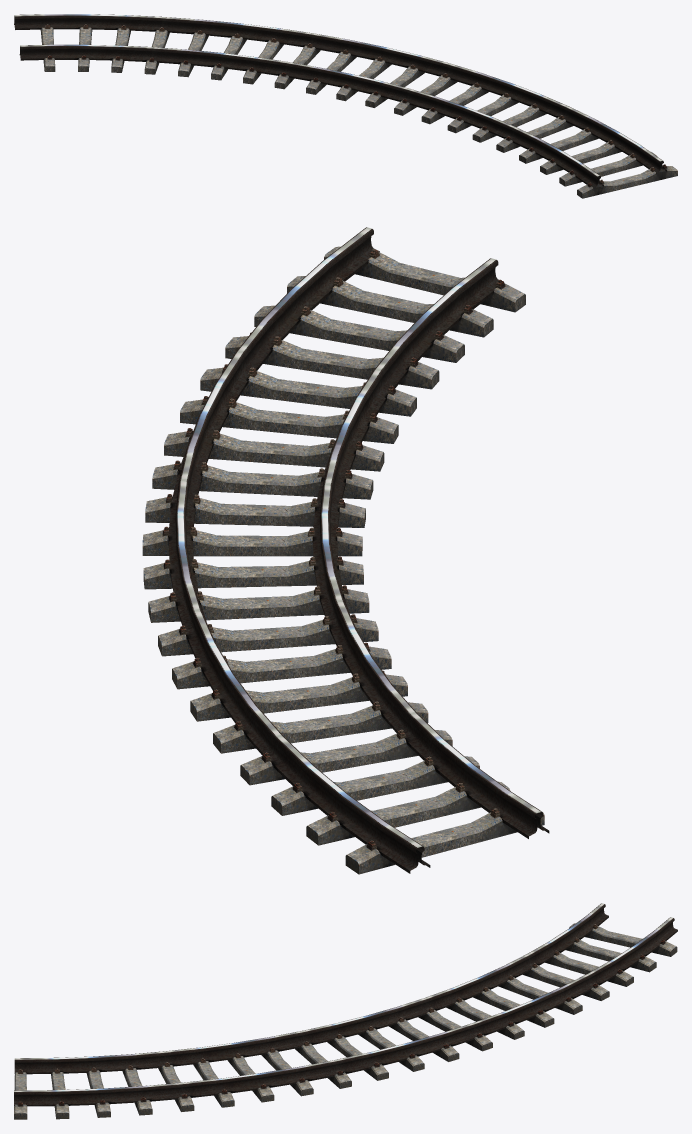
The model's file is Beton_rail_65.FBX.
3 views of the same model, one above another, from view 1: azimuth 30°, elevation 25°; view 2: azimuth 150°, elevation 25°; view 3: azimuth 270°, elevation 25° (orthographic). The views are drawn at different scales.
Parts seen in each view (by area): view 1: Beton_rail_65_LOD0; view 2: Beton_rail_65_LOD0; view 3: Beton_rail_65_LOD0.
Boxes of the visible parts, bbox=[...] form: Beton_rail_65_LOD0: bbox=[14, 14, 677, 198]; Beton_rail_65_LOD0: bbox=[142, 227, 549, 874]; Beton_rail_65_LOD0: bbox=[14, 903, 677, 1119].
Size of what is drawn, in the model's own units: 10.13 by 14.41 by 0.4774.
